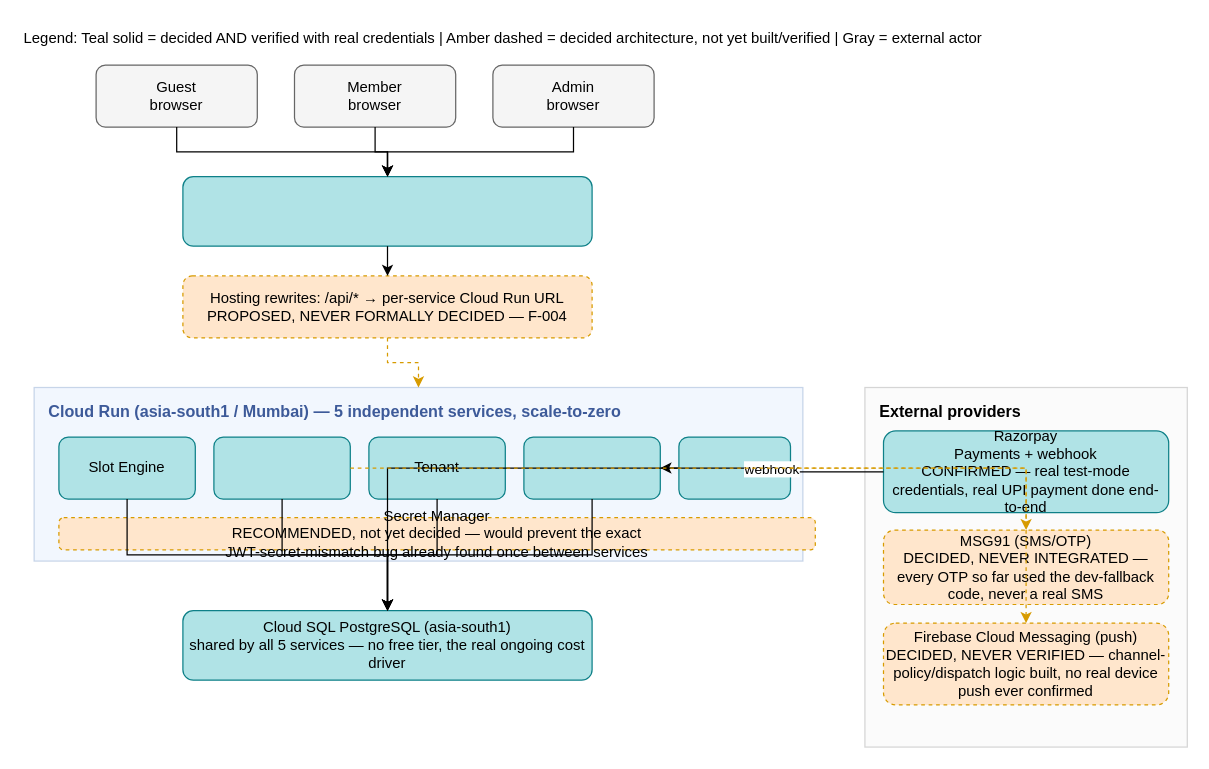
Image size: 1209x769. Some labels were removed from this diagram. Here are the shapes that lost their labels. From the top down, the box of each, then its label:
(182, 175, 592, 246): Firebase Hosting serves guest-member-pwa + admin-web static builds
(213, 436, 350, 499): Identity
(523, 436, 660, 499): Payment
(678, 436, 790, 499): Notification
